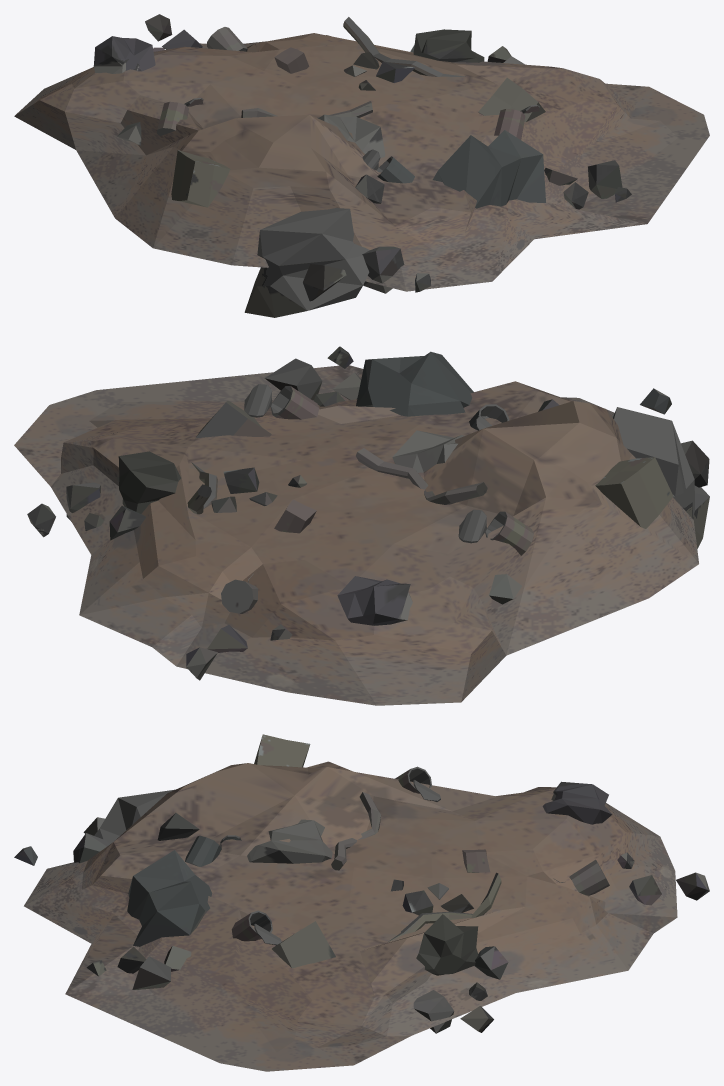
File: pile.fbx
3 renders of one model, top to bottom at view 1: azimuth 30°, elevation 25°; view 2: azimuth 150°, elevation 25°; view 3: azimuth 270°, elevation 25°, orthographic. The views are drawn at different scales.
Parts seen in each view (by area): view 1: Pile; view 2: Pile; view 3: Pile.
Part boxes in pixels (x1,y1,x2,y2): Pile: (14,14,709,317); Pile: (14,346,709,705); Pile: (14,734,709,1071).
Size of the model in its own units: 462 by 116 by 492.
